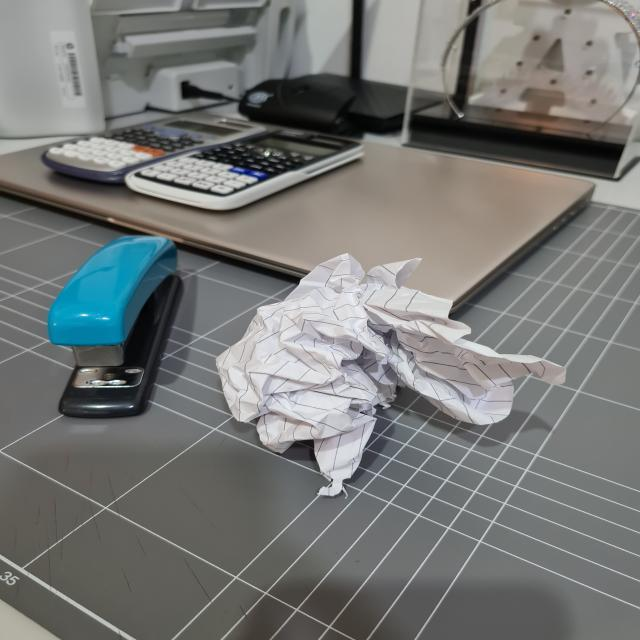Paper: (215, 255, 567, 498)
